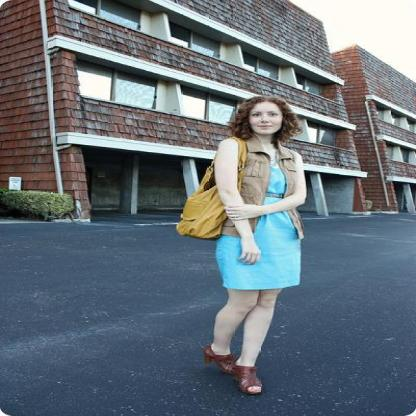bag: (162, 158, 255, 237)
dress: (216, 175, 303, 288)
jacket: (205, 137, 306, 238)
shoe: (204, 348, 261, 388)
